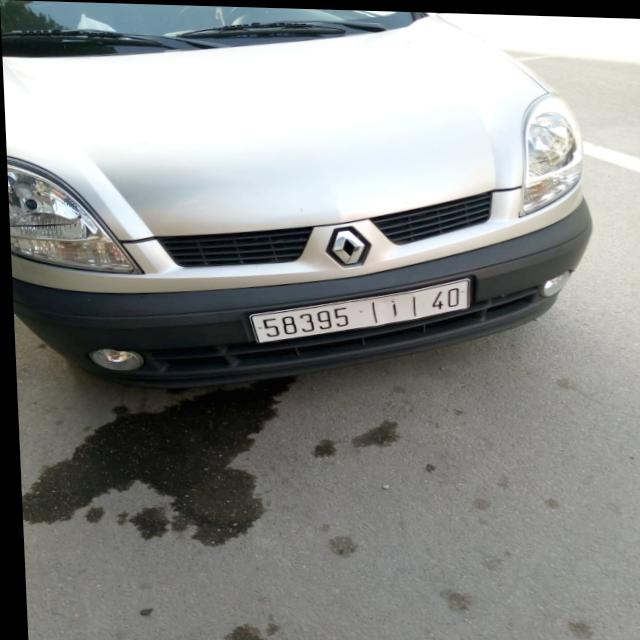License-Plate: (247, 276, 468, 341)
